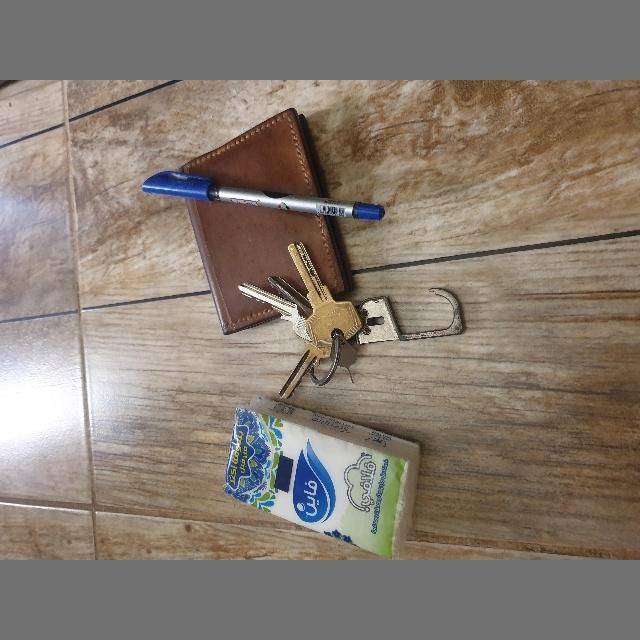Keys: (239, 243, 465, 399)
Wallet: (180, 108, 352, 334)
